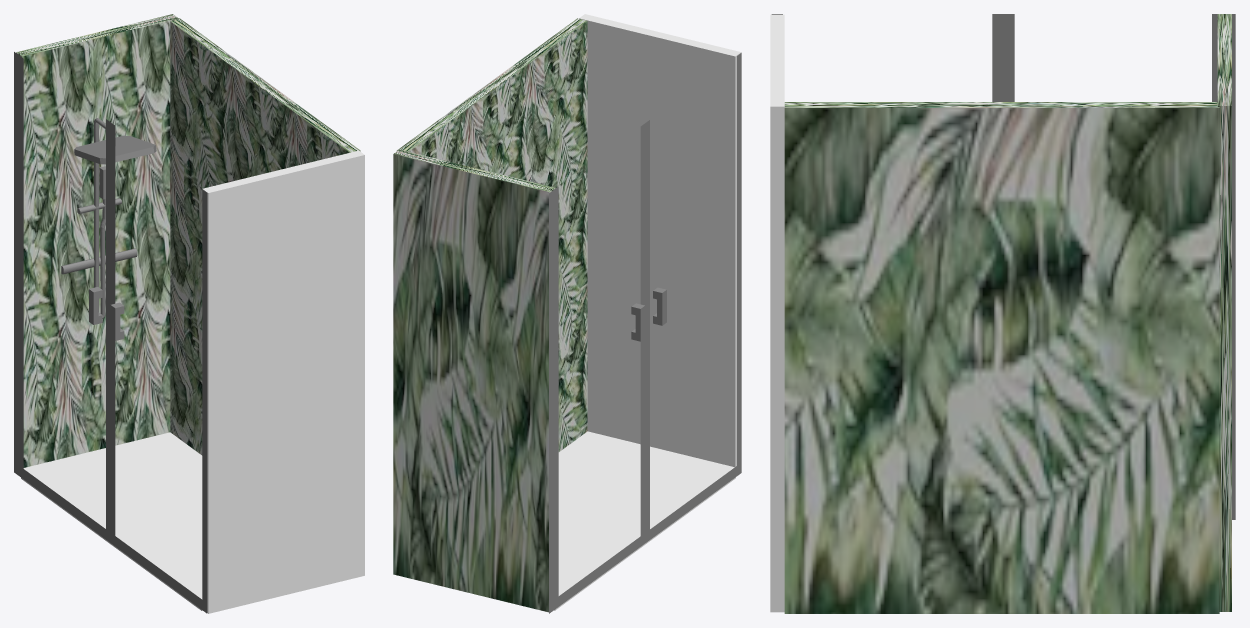
The model's file is kinewall-4-transformed.glb.
3 renders of one model, left to right at view 1: azimuth 30°, elevation 25°; view 2: azimuth 150°, elevation 25°; view 3: azimuth 270°, elevation 25°, orthographic. The views are drawn at different scales.
Visible parts, largest first — view 1: kinewall, kinewall-back; view 2: kinewall-back, kinewall; view 3: kinewall-back, kinewall.
Part boxes in pixels (x1=…): kinewall: x1=14, y1=52, x2=364, y2=613; kinewall-back: x1=16, y1=14, x2=360, y2=467; kinewall-back: x1=393, y1=18, x2=587, y2=612; kinewall: x1=549, y1=14, x2=741, y2=613; kinewall-back: x1=784, y1=14, x2=1231, y2=613; kinewall: x1=770, y1=14, x2=1235, y2=612.
Bounding box in the file's own units: 3.21 × 7.73 × 6.42.
Materials: 4 (1 with a texture image).
